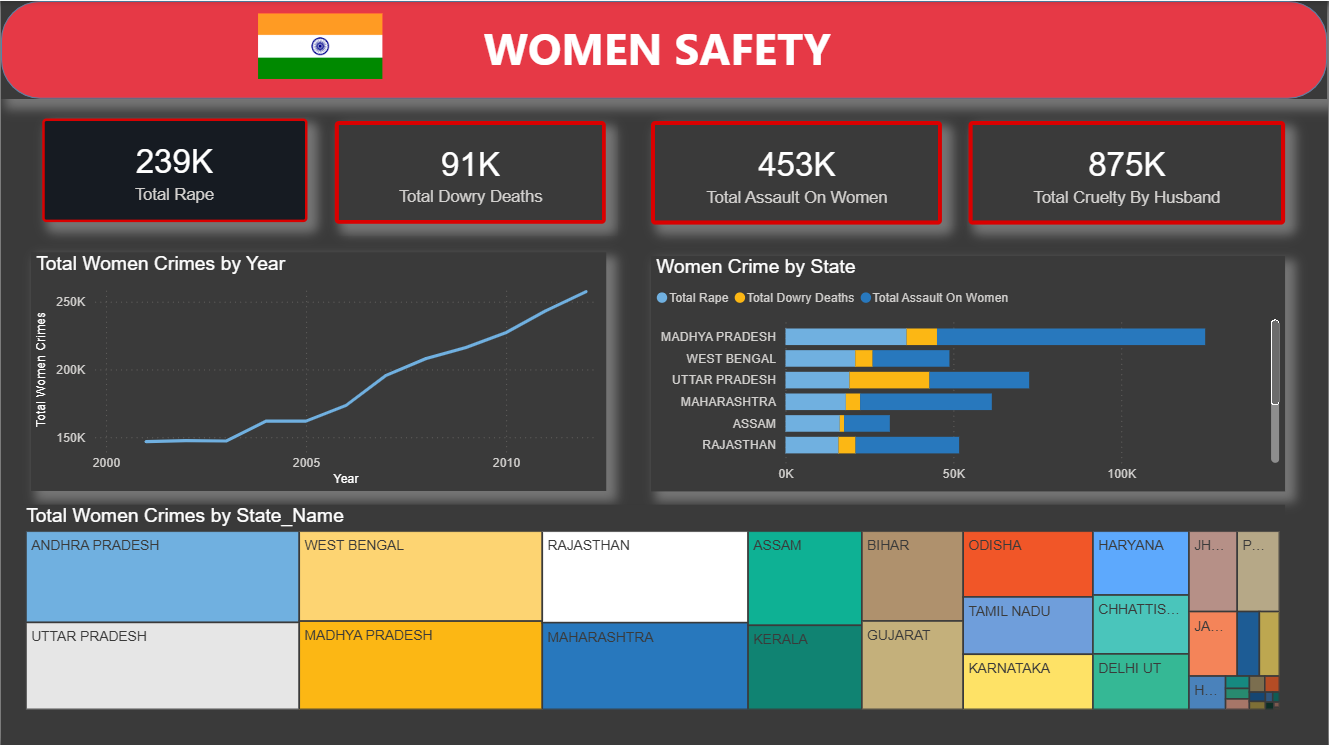

The page's visual inventory and layout, read from the dashboard file:
{"tool":"powerbi","page":{"name":"Women Safety","canvas":[1280,720],"ordinal":2},"visuals":[{"type":"card","fields":{"Values":["Crime_Summary.Total Rape"]},"box":[39.8,113.4,255.8,100.1],"z":0},{"type":"card","fields":{"Values":["Crime_Summary.Total Dowry Deaths"]},"box":[322.1,115.8,261.8,98.9],"z":1000},{"type":"card","fields":{"Values":["Women_Crimes.Total Assault"]},"box":[627.3,115.8,281.1,100.1],"z":2000},{"type":"card","fields":{"Values":["Women_Crimes.Total Cruelty By Husband"]},"box":[933.8,115.8,305.2,100.1],"z":3000},{"type":"lineChart","fields":{"Category":["Year_Table.Year"],"Y":["Crime_Category_Summary.Total Women Crimes"]},"box":[29,242.5,555,230.4],"z":4000},{"type":"barChart","title":"Women Crime by State","fields":{"Category":["States.State_Name"],"Y":["Crime_Summary.Total Rape","Crime_Summary.Total Dowry Deaths","Women_Crimes.Total Assault On Women"]},"box":[627.3,246.1,611.7,226.8],"z":5000},{"type":"treemap","fields":{"Group":["States.State_Name"],"Values":["Crime_Category_Summary.Total Women Crimes"]},"box":[19.3,486.2,1219.7,202.7],"z":6000},{"type":"textbox","box":[426.2,11.2,152.5,58.8],"z":7000},{"type":"shape","box":[0,0,1280,94.3],"z":8000},{"type":"textbox","box":[461.4,11.4,377.1,72.9],"z":9000},{"type":"image","box":[242.4,11.5,131.3,63.5],"z":10000}]}

Visuals, with their boxes in screenshot pixels (x1, y1, x2, y2), scaled from the page's 1280x720 canvas onto the 1329x745 screenshot:
card - Crime_Summary.Total Rape: (x1=41, y1=117, x2=307, y2=221)
card - Crime_Summary.Total Dowry Deaths: (x1=334, y1=120, x2=606, y2=222)
card - Women_Crimes.Total Assault: (x1=651, y1=120, x2=943, y2=223)
card - Women_Crimes.Total Cruelty By Husband: (x1=970, y1=120, x2=1286, y2=223)
lineChart - Year_Table.Year x Crime_Category_Summary.Total Women Crimes: (x1=30, y1=251, x2=606, y2=489)
"Women Crime by State" barChart: (x1=651, y1=255, x2=1286, y2=489)
treemap - States.State_Name x Crime_Category_Summary.Total Women Crimes: (x1=20, y1=503, x2=1286, y2=713)
textbox: (x1=443, y1=12, x2=601, y2=72)
shape: (x1=0, y1=0, x2=1328, y2=98)
textbox: (x1=479, y1=12, x2=871, y2=87)
image: (x1=252, y1=12, x2=388, y2=78)
